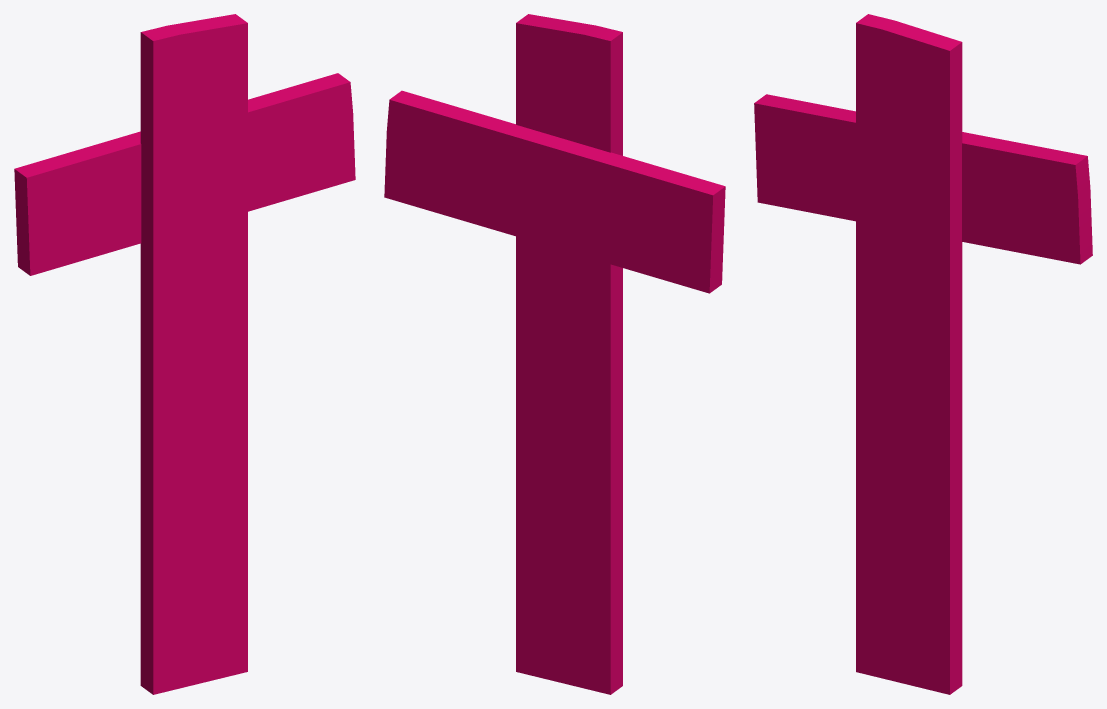
File: Grave_Cross_02_Lod0.fbx
3 views of the same model, side by side, from view 1: azimuth 30°, elevation 25°; view 2: azimuth 150°, elevation 25°; view 3: azimuth 330°, elevation 25° (orthographic).
Parts seen in each view (by area): view 1: Grave_Cross_02_Lod0; view 2: Grave_Cross_02_Lod0; view 3: Grave_Cross_02_Lod0.
Boxes of the visible parts, left/top/right/bottom form: Grave_Cross_02_Lod0: left=14, top=14, right=355, bottom=694; Grave_Cross_02_Lod0: left=384, top=14, right=725, bottom=694; Grave_Cross_02_Lod0: left=754, top=14, right=1092, bottom=694.
Bounding box in the file's own units: 57.89 × 110 × 7.44.
